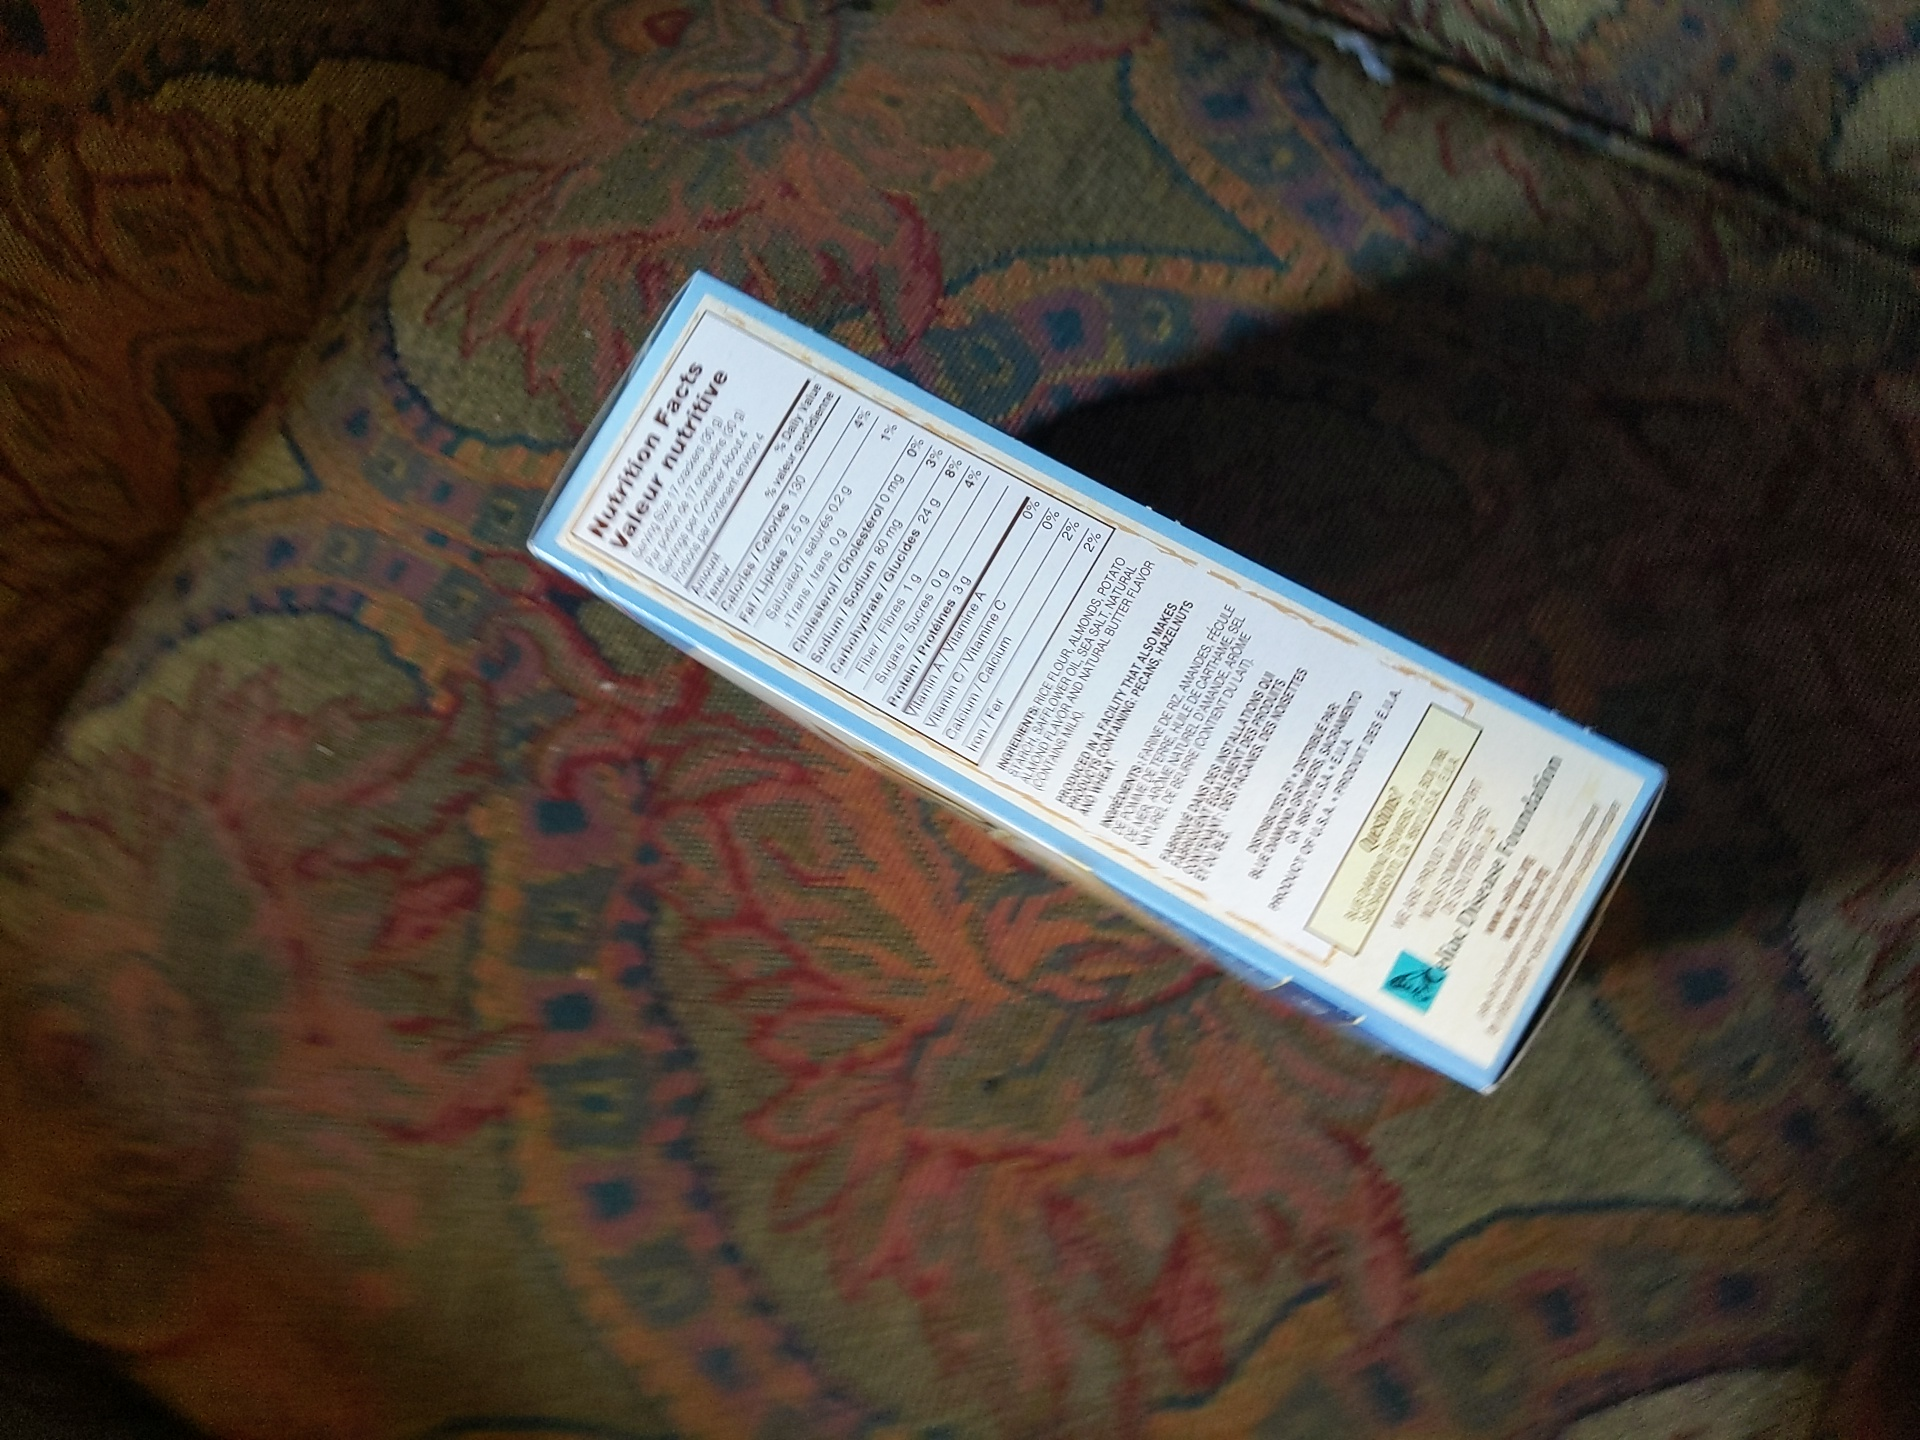blue_diamond_nut_thins_almond_seasalt: (587, 343, 1599, 989)
